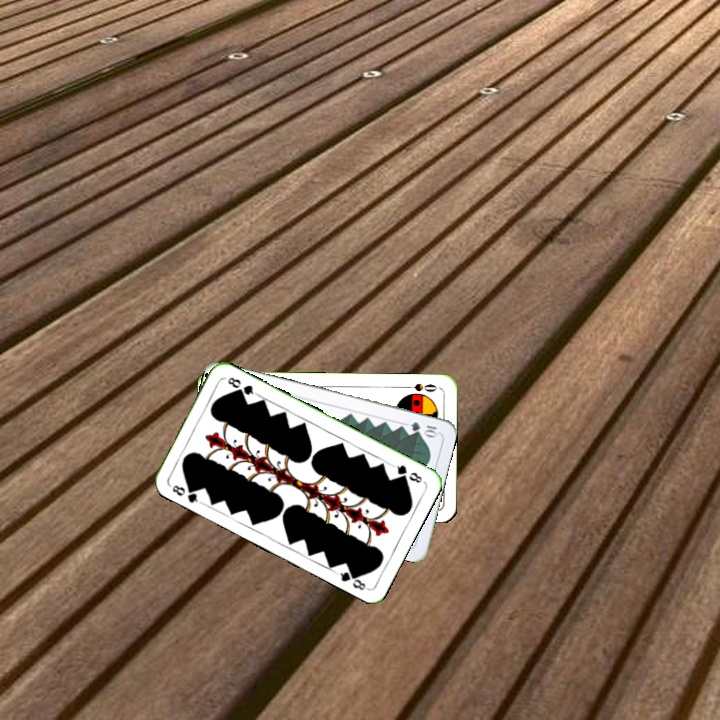G10: (406, 418, 441, 439)
G8: (388, 461, 425, 486), (168, 481, 203, 506)
SO: (401, 379, 441, 394)
